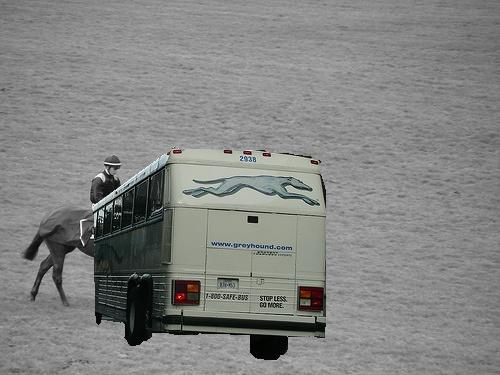tampered: (94, 147, 326, 360)
